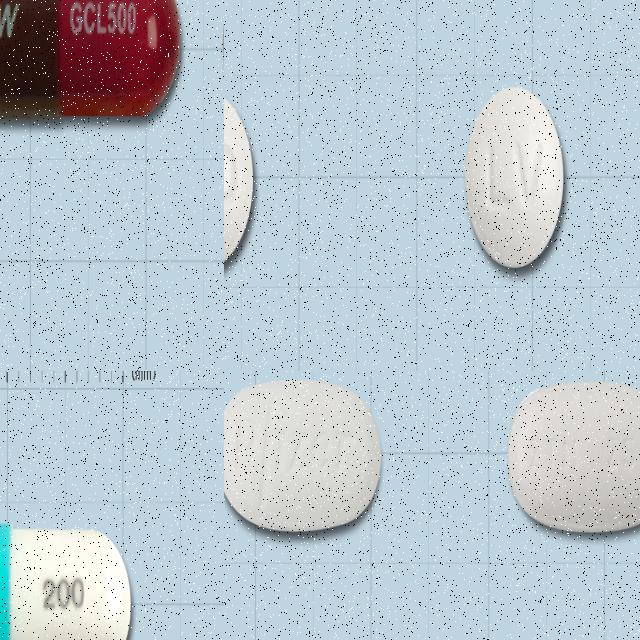Gomcillin Cap -250mg: (0, 0, 181, 125)
Levarox: (466, 86, 565, 268), (224, 88, 253, 273)
Viread Tab: (0, 519, 132, 640)
Zyvox Tab: (224, 377, 382, 531), (509, 384, 640, 529)
